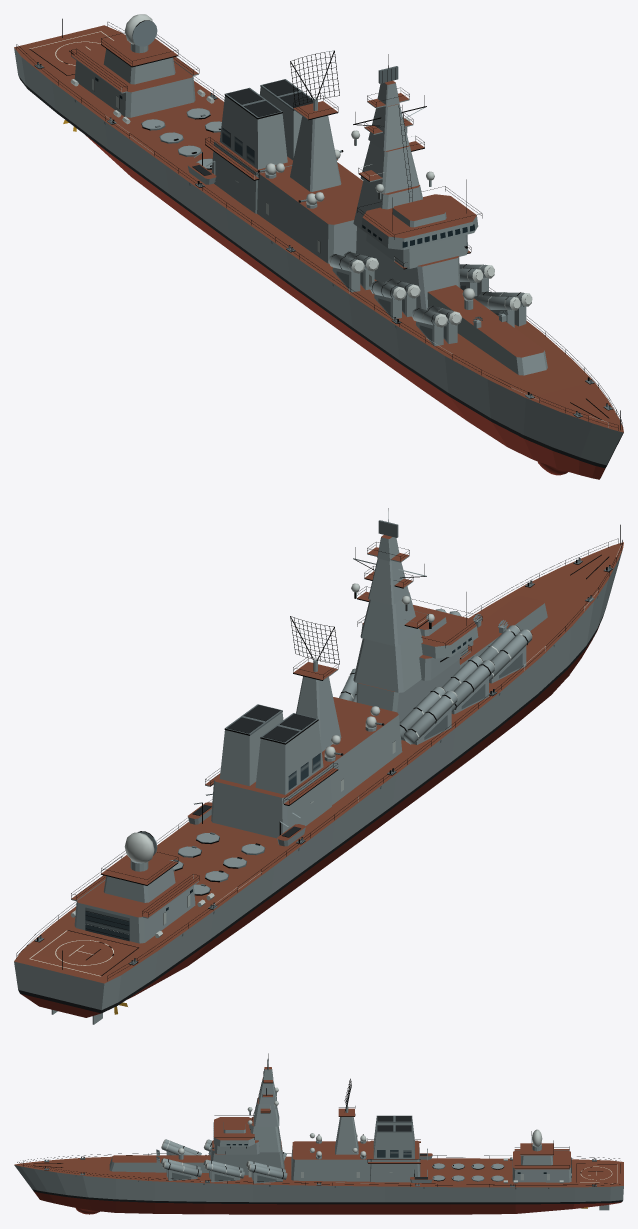
File: hull_cruiser.glb
3 views of the same model, one above another, from view 1: azimuth 30°, elevation 25°; view 2: azimuth 150°, elevation 25°; view 3: azimuth 270°, elevation 25° (orthographic). The views are drawn at different scales.
Visible parts, largest first — view 1: MESH_SLAVA_HULL; view 2: MESH_SLAVA_HULL; view 3: MESH_SLAVA_HULL.
Boxes of the visible parts, box(x1,y1,x2,y2) form: MESH_SLAVA_HULL: box(14, 14, 623, 479); MESH_SLAVA_HULL: box(14, 508, 623, 1024); MESH_SLAVA_HULL: box(14, 1053, 623, 1214).
Size of the model in its own units: 19.03 by 49.34 by 170.
Materials: 1 (1 with a texture image).
